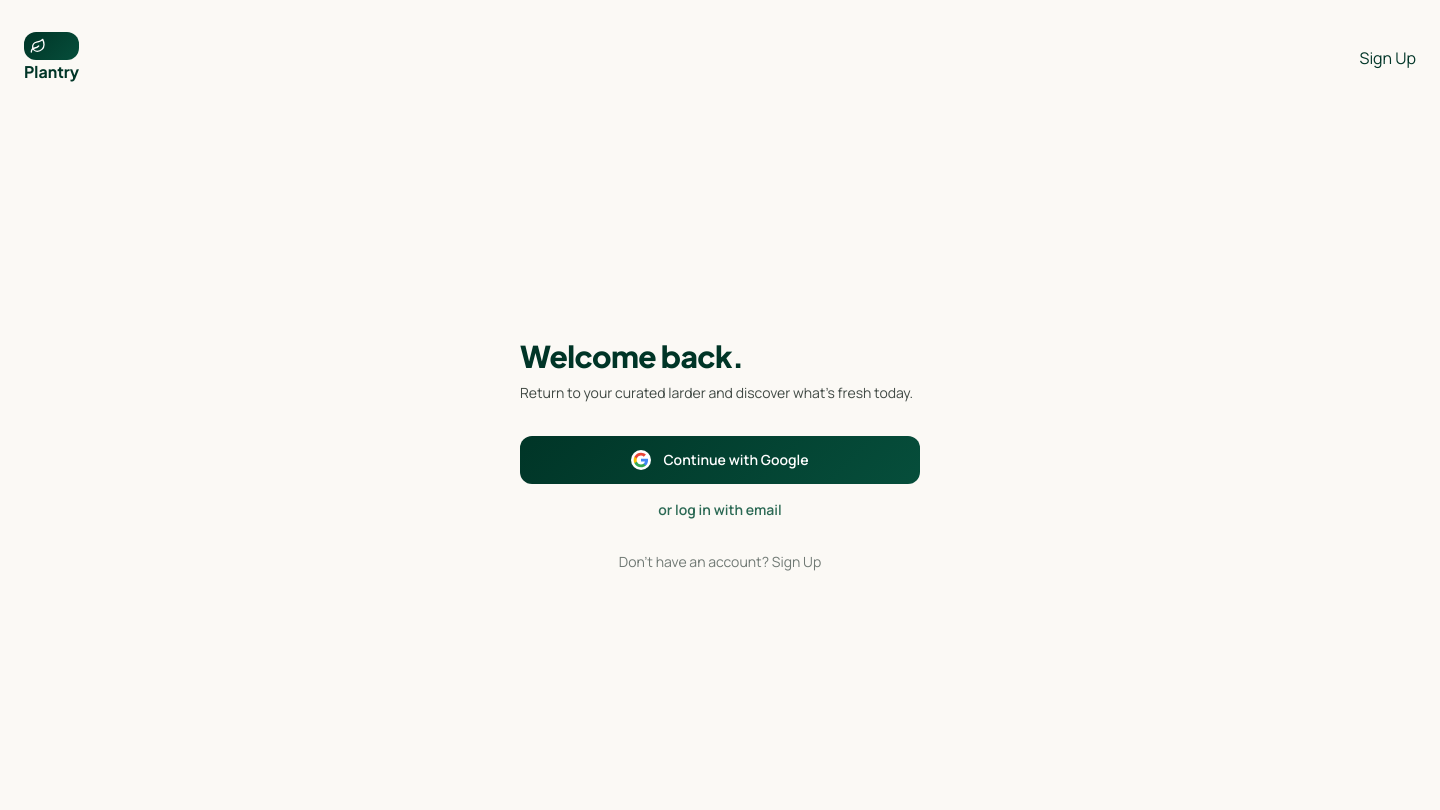
Test: Login page › shows an error message on failed login
The width and height of the screenshot is (1440, 810).
Click the button "or log in with email" at (720, 510), box [520,500,920,520]
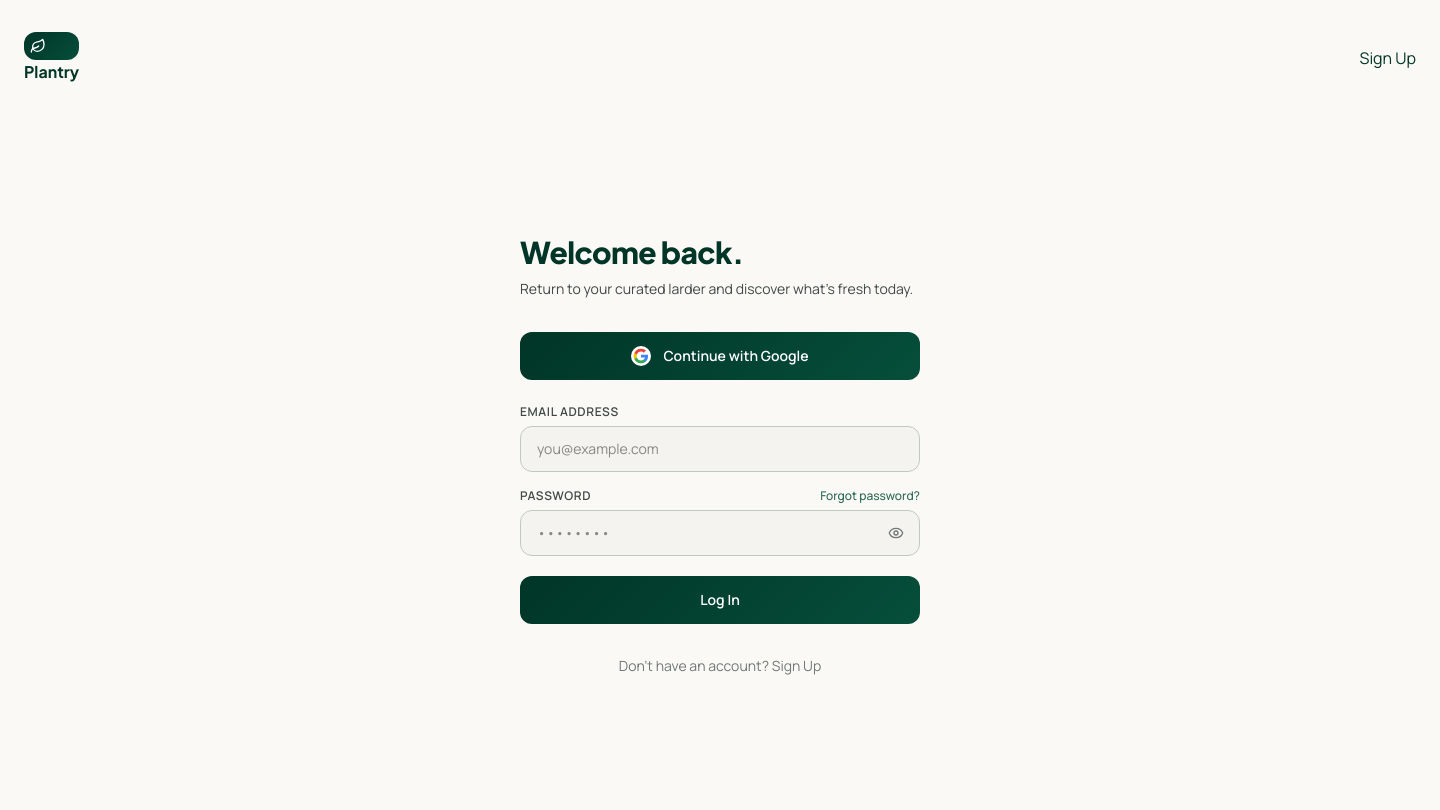
Type "bad@example.com" into the field with placeholder "you@example.com" at (720, 449), box [520,426,920,472]
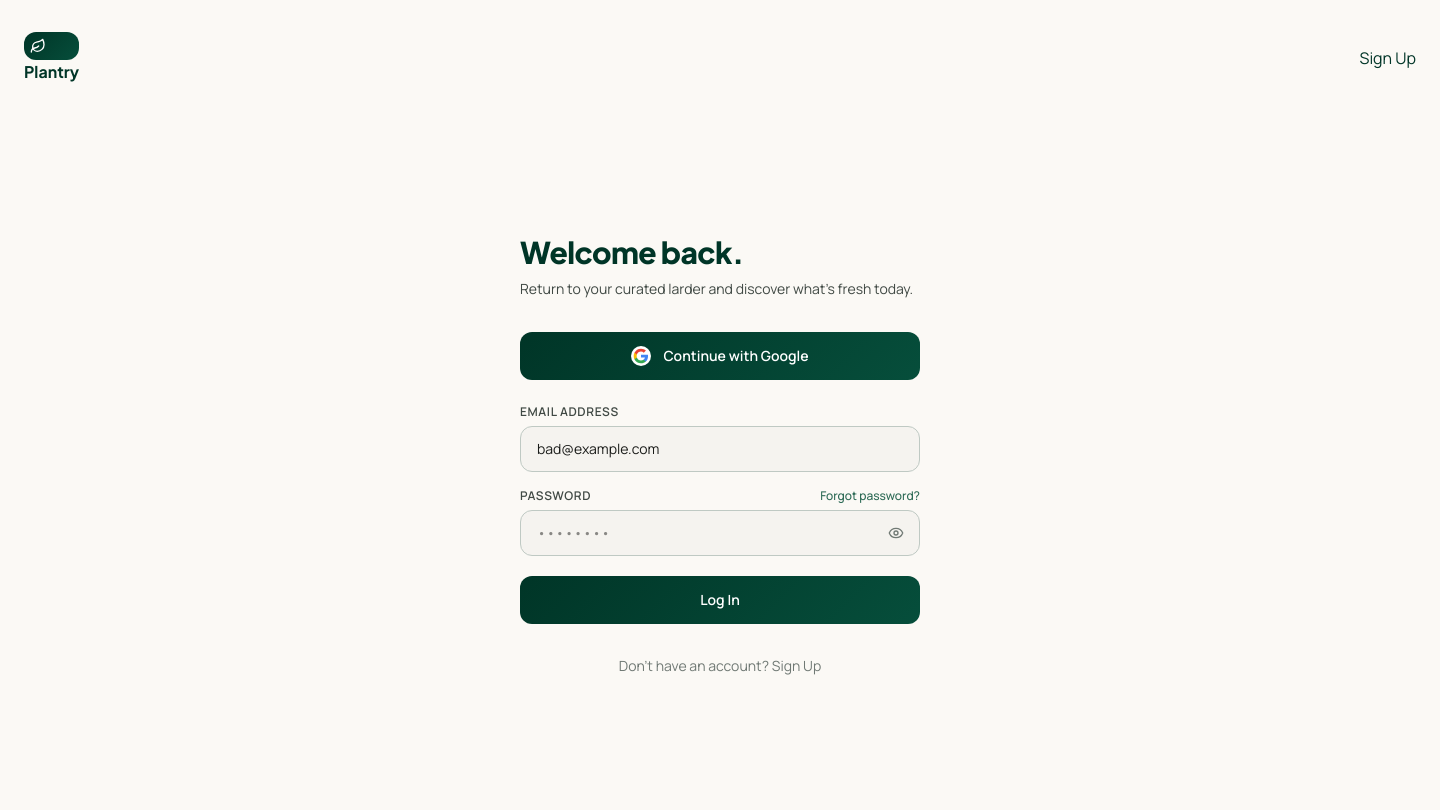
Type "wrongpass" into the password field with placeholder "••••••••" at (720, 533), box [520,510,920,556]
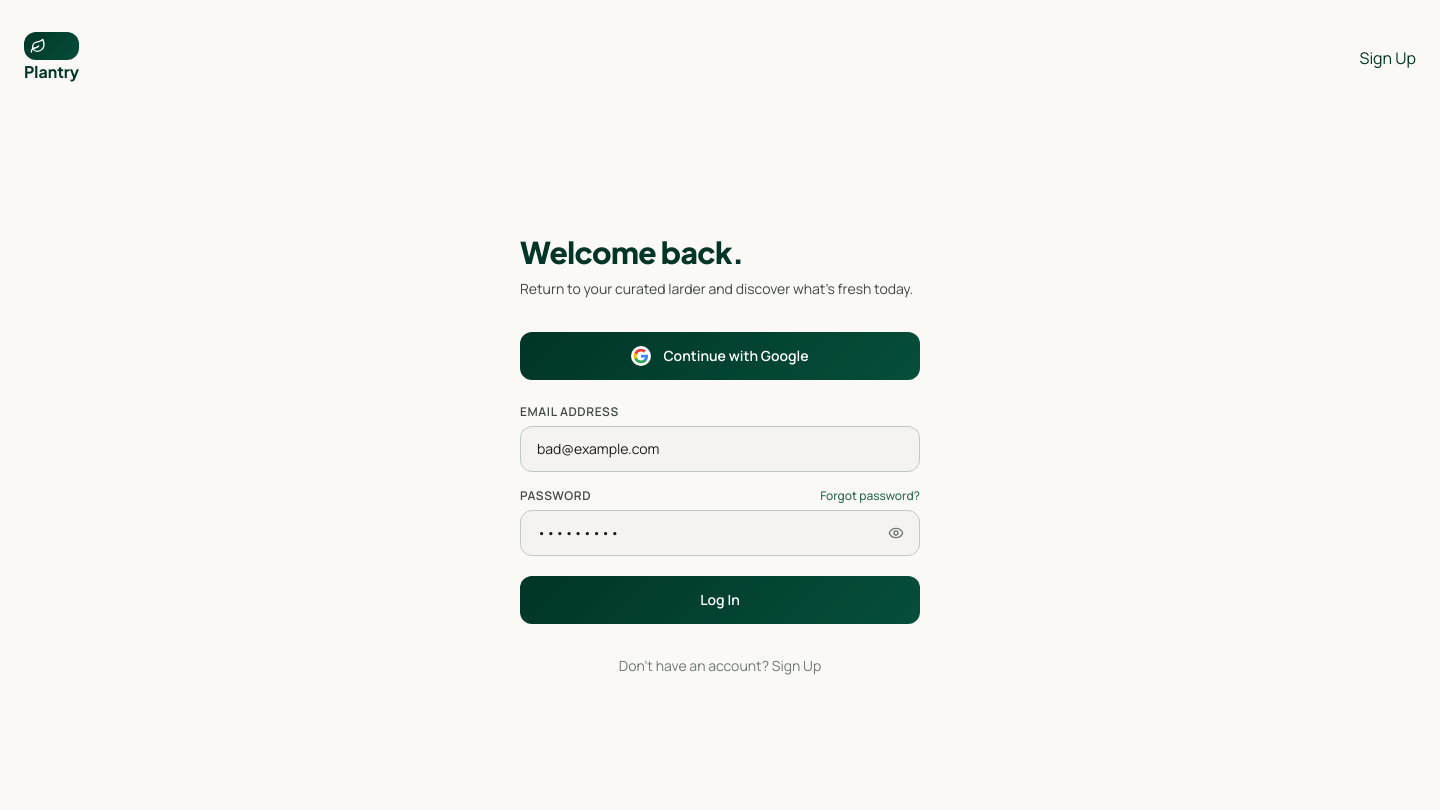
Click the button "Log In" at (720, 600), box [520,576,920,624]
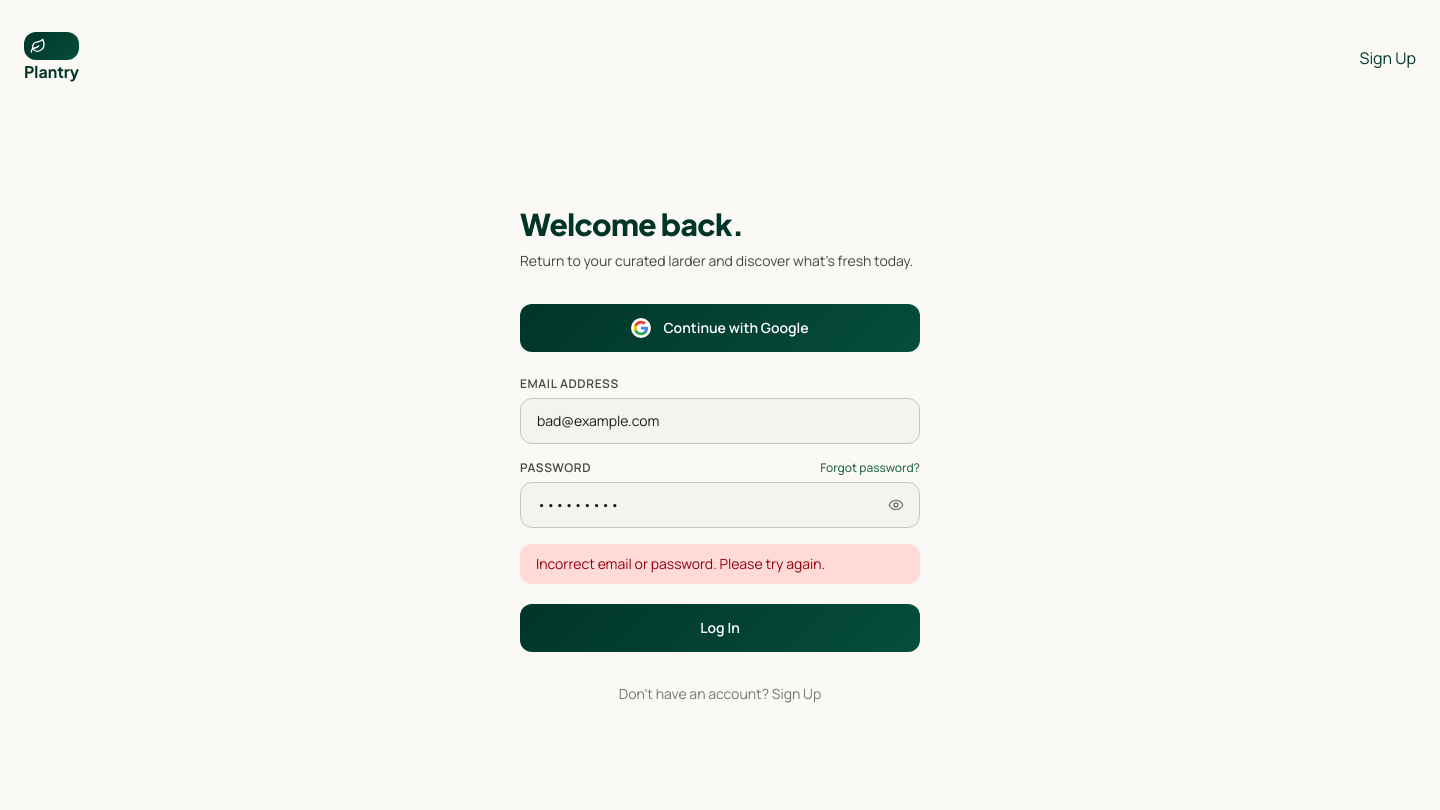
Expected: the text "Incorrect email or password. Please try again." is shown, [520,544,920,584]
